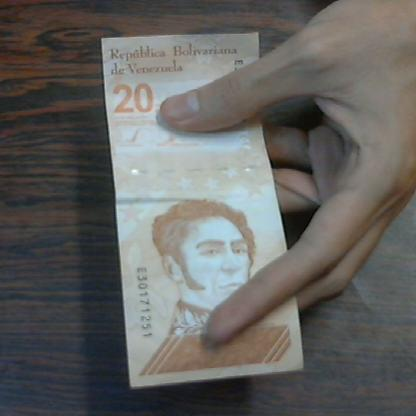twenty-front-vef: (101, 34, 306, 389)
